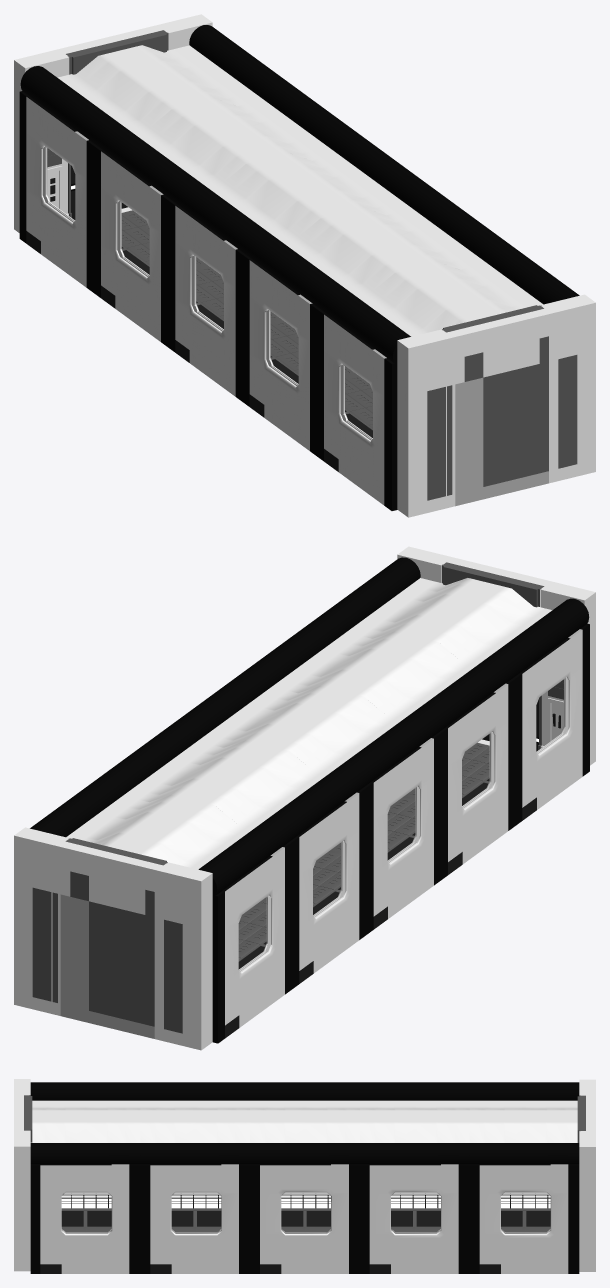
Rendered from space_ship_hallway-transformed.glb.
3 renders of one model, top to bottom at view 1: azimuth 30°, elevation 25°; view 2: azimuth 150°, elevation 25°; view 3: azimuth 270°, elevation 25°, orthographic. The views are drawn at different scales.
Parts seen in each view (by area): view 1: highpolywall11_Wall_Black_0; view 2: highpolywall11_Wall_Black_0; view 3: highpolywall11_Wall_Black_0, highpolywall11_Vent_light_0.
Boxes of the visible parts, box(x1,y1,x2,y2) form: highpolywall11_Wall_Black_0: box(14, 14, 595, 517); highpolywall11_Wall_Black_0: box(14, 546, 595, 1050); highpolywall11_Wall_Black_0: box(14, 1079, 595, 1273); highpolywall11_Vent_light_0: box(61, 1196, 550, 1208).
Bounding box in the file's own units: 8.47 × 7 × 29.16.
4 materials, 4 textured.
